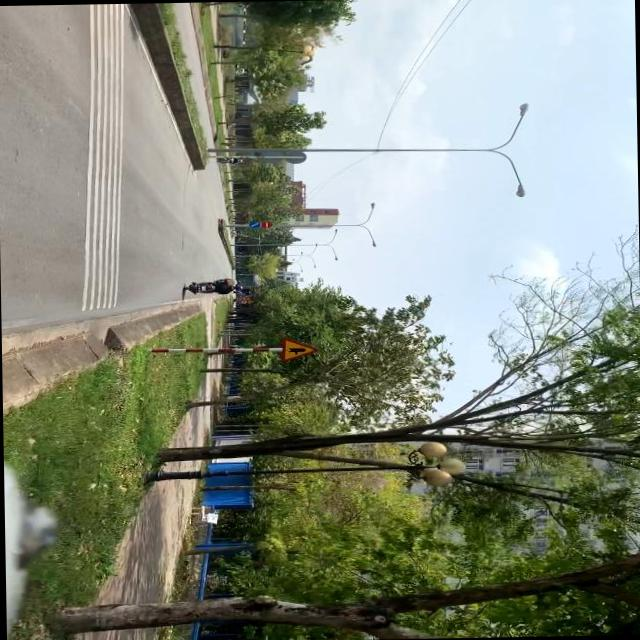W-207b: (279, 338, 319, 361)
